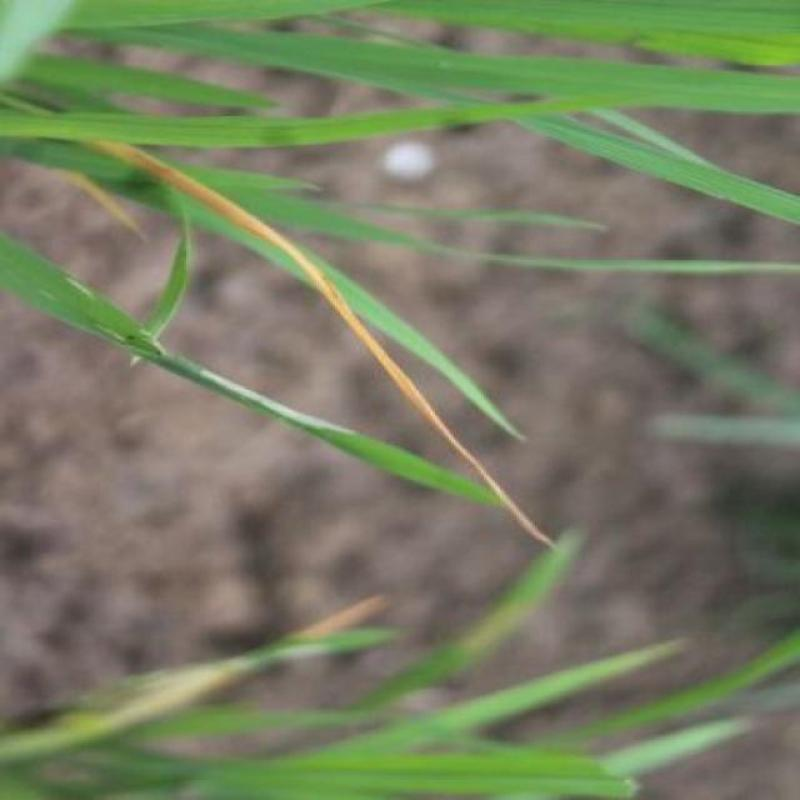Rice Tungro: (332, 328, 566, 554), (115, 146, 263, 225)
